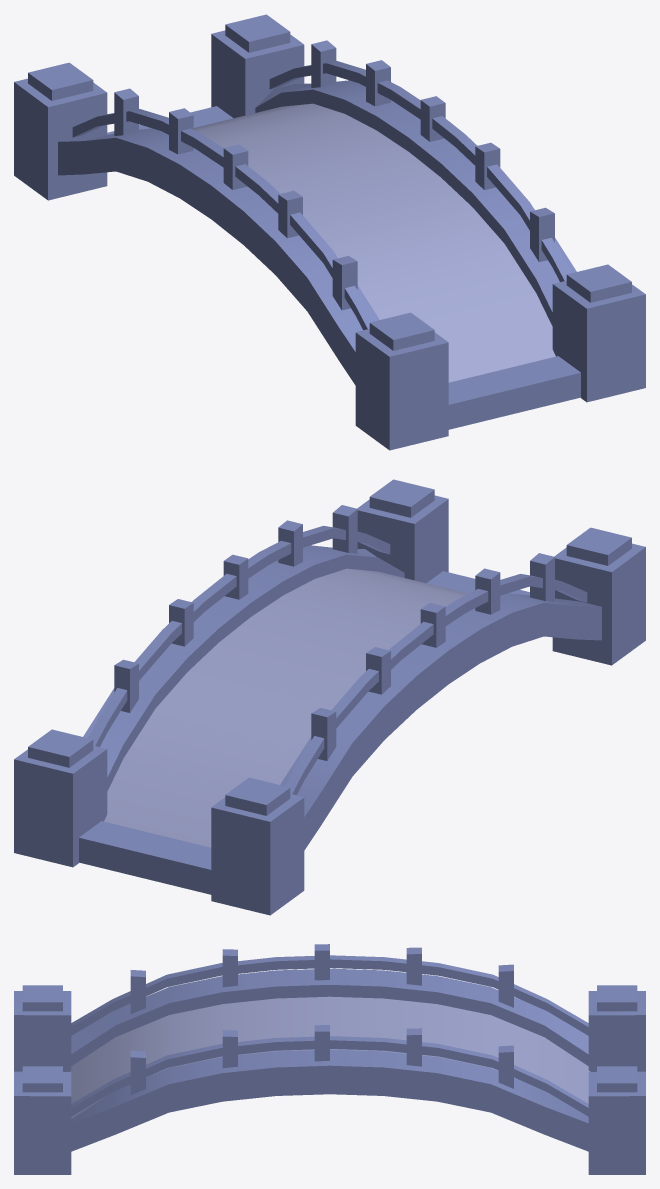
Rendered from bridge_1e_1.fbx.
3 renders of one model, top to bottom at view 1: azimuth 30°, elevation 25°; view 2: azimuth 150°, elevation 25°; view 3: azimuth 270°, elevation 25°, orthographic. The views are drawn at different scales.
Parts seen in each view (by area): view 1: bridge_1e_1; view 2: bridge_1e_1; view 3: bridge_1e_1.
Part boxes in pixels (bbox=[...]): bridge_1e_1: bbox=[14, 14, 645, 450]; bridge_1e_1: bbox=[14, 479, 645, 915]; bridge_1e_1: bbox=[14, 944, 645, 1174].
Bounding box in the file's own units: 10.4 × 6.19 × 26.4.
